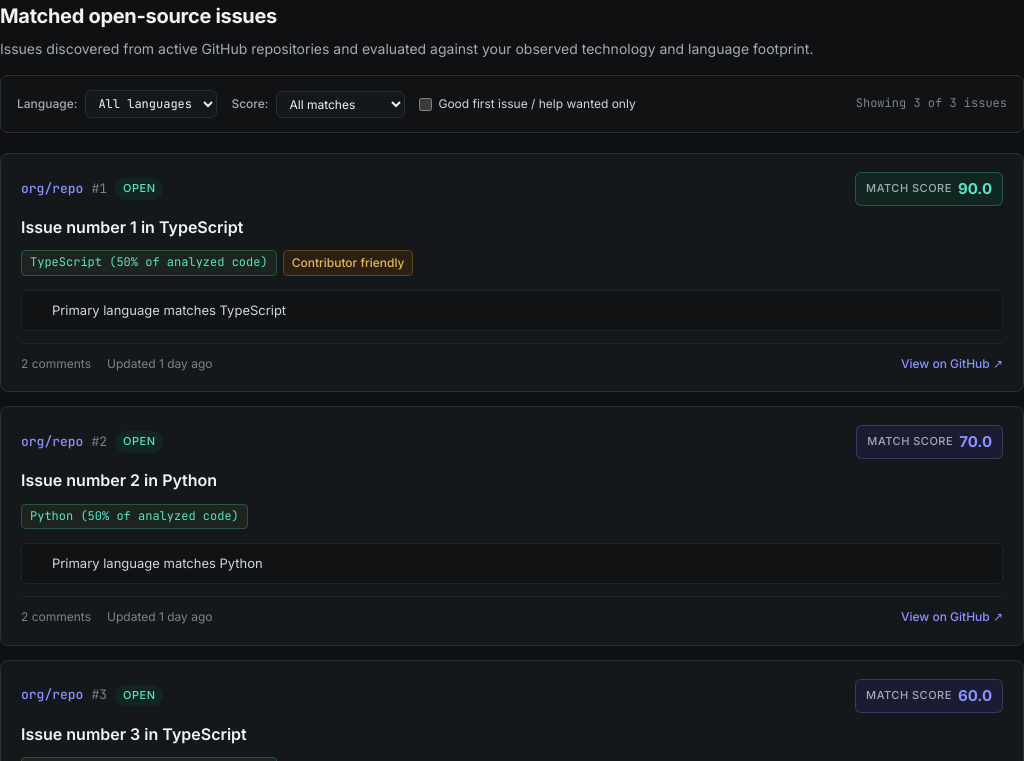
Test: MatchedIssuesSection component › filters by language without altering deterministic order
// Filter by TypeScript
Step 1. Select "TypeScript" in the dropdown labelled "Language:" → (151, 104), box x1=85 y1=90 x2=217 y2=118
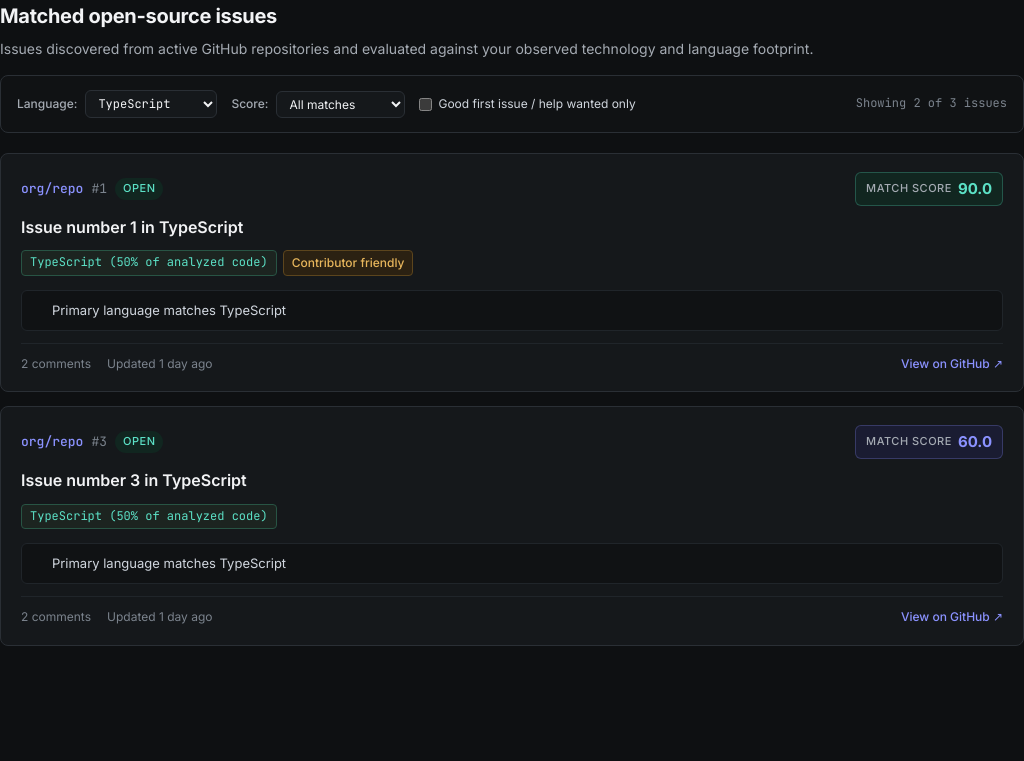
Expected: the link "Issue number 1 in TypeScript" is shown, x1=21 y1=217 x2=243 y2=237
Expected: the text "Showing 2 of 3 issues" is shown, x1=856 y1=94 x2=1007 y2=114
Expected: the link "Issue number 2 in Python" is gone
